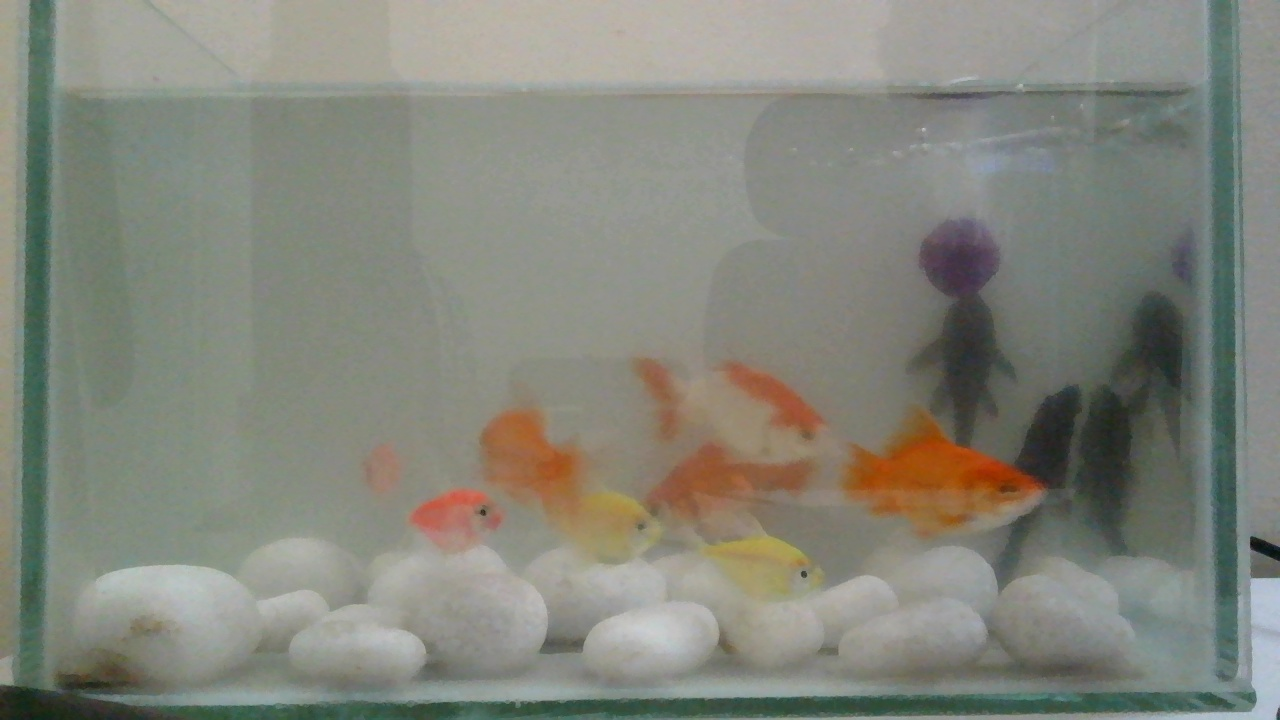fish: (843, 415, 1051, 537), (387, 484, 541, 614), (686, 517, 816, 605)
